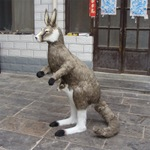kangaroo: (32, 7, 121, 141)
